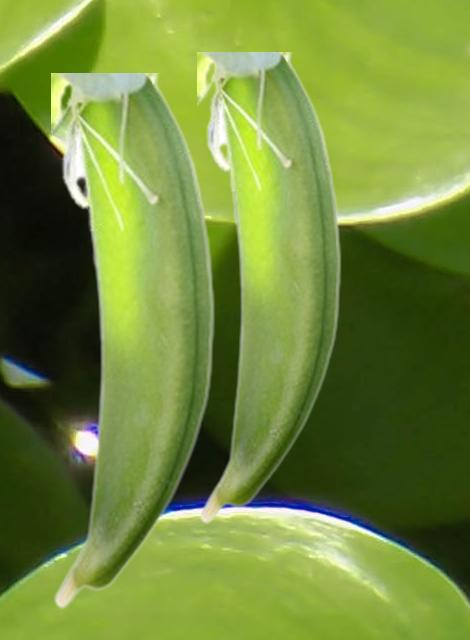pea: (51, 73, 218, 608), (197, 52, 344, 523)
